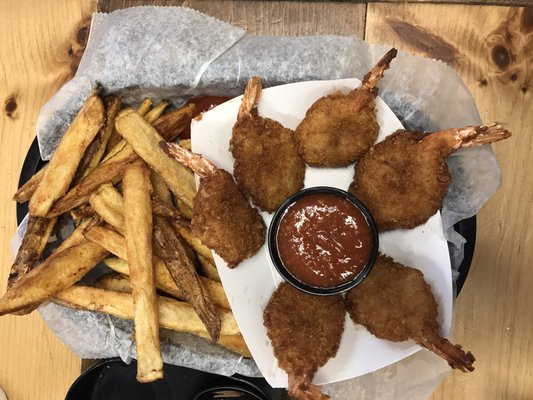sushi: (267, 186, 378, 297)
